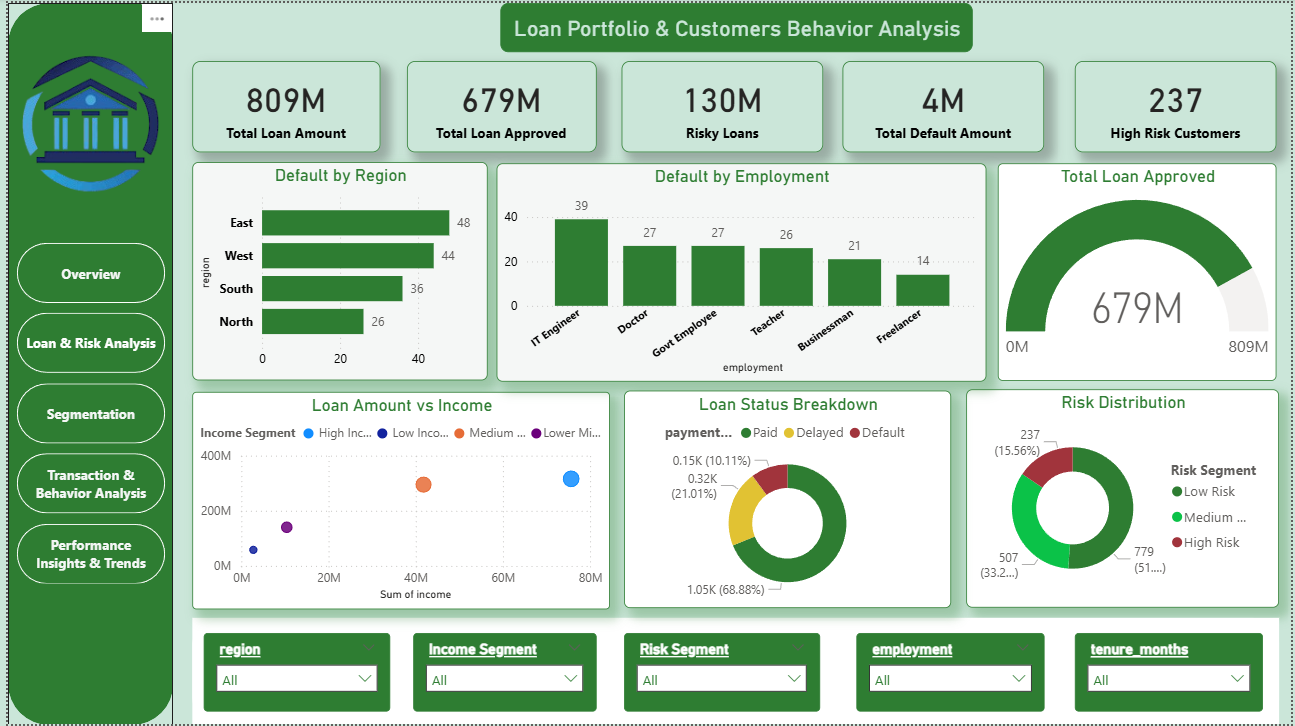

Layout of this report page (visuals, bound fields, positions):
{"tool":"powerbi","page":{"name":"Loan & Risk  Analysis","canvas":[1280,720],"ordinal":1},"visuals":[{"type":"shape","box":[0,0,165,720.5],"z":0},{"type":"shape","title":"Loan Portfolio & Customers Behavior Analysis","box":[491.3,0,471.1,49.1],"z":1000},{"type":"pageNavigator","box":[8.8,239.3,148.6,341.4],"z":2000},{"type":"image","box":[0,11.3,165,219.2],"z":3000},{"type":"card","fields":{"Values":["Sum(banking_loan_db cust_trans_loan.loan_amount)"]},"box":[183.9,57.9,187.7,90.7],"z":4000},{"type":"card","fields":{"Values":["banking_loan_db cust_trans_loan.Total Loan Approved"]},"box":[398.1,57.9,189,90.7],"z":5000},{"type":"card","fields":{"Values":["banking_loan_db cust_trans_loan.Risky Loans"]},"box":[612.2,57.9,201.5,90.7],"z":6000},{"type":"card","fields":{"Values":["banking_loan_db cust_trans_loan.Total Default Amount"]},"box":[832.6,57.9,201.5,90.7],"z":7000},{"type":"barChart","title":"Default by Region","fields":{"Category":["banking_loan_db cust_trans_loan.region"],"Y":["banking_loan_db cust_trans_loan.Default Count"]},"box":[183.9,158.7,294.8,217.9],"z":8000},{"type":"donutChart","title":" Risk Distribution","fields":{"Category":["banking_loan_db cust_trans_loan.Risk Segment"],"Y":["CountNonNull(banking_loan_db cust_trans_loan.customer_id)"]},"box":[956.1,385.5,312.4,217.9],"z":9000},{"type":"shape","box":[183.9,612.9,1084.6,107.1],"z":10000},{"type":"slicer","fields":{"Values":["banking_loan_db cust_trans_loan.region"]},"box":[195.2,628.6,186.4,78.1],"z":11000},{"type":"slicer","fields":{"Values":["banking_loan_db cust_trans_loan.Income Segment"]},"box":[404.4,628.6,182.7,78.1],"z":12000},{"type":"slicer","fields":{"Values":["banking_loan_db cust_trans_loan.Risk Segment"]},"box":[614.7,628.6,195.2,78.1],"z":13000},{"type":"slicer","fields":{"Values":["banking_loan_db cust_trans_loan.employment"]},"box":[846.5,628.6,187.7,78.1],"z":14000},{"type":"slicer","fields":{"Values":["banking_loan_db cust_trans_loan.tenure_months"]},"box":[1064.4,628.6,187.7,78.1],"z":15000},{"type":"card","fields":{"Values":["banking_loan_db cust_trans_loan.High Risk Customers"]},"box":[1064.4,57.9,201.5,90.7],"z":16000},{"type":"scatterChart","title":"Loan Amount vs Income","fields":{"Series":["banking_loan_db cust_trans_loan.Income Segment"],"Y":["Sum(banking_loan_db cust_trans_loan.loan_amount)"],"Size":["CountNonNull(banking_loan_db cust_trans_loan.Income Segment)"],"X":["Sum(banking_loan_db cust_trans_loan.income)"]},"box":[183.9,388,417,216.7],"z":17000},{"type":"columnChart","title":"Default by Employment","fields":{"Category":["banking_loan_db cust_trans_loan.employment"],"Y":["banking_loan_db cust_trans_loan.Default Count"]},"box":[487.5,160,488.8,217.9],"z":18000},{"type":"donutChart","title":"Loan Status Breakdown","fields":{"Category":["banking_loan_db cust_trans_loan.payment_status"],"Y":["CountNonNull(banking_loan_db cust_trans_loan.loan_id)"]},"box":[614.7,386.7,326.3,216.7],"z":19000},{"type":"gauge","title":"Total Loan Approved ","fields":{"Y":["banking_loan_db cust_trans_loan.Total Loan Approved"],"MaxValue":["Sum(banking_loan_db cust_trans_loan.loan_amount)"]},"box":[987.6,160,278.4,216.7],"z":20000}]}

Visuals, with their boxes on the page's 1280x720 design canvas (x1, y1, x2, y2). These are canvas units, not pixel positions in the 1295x726 screenshot, which may show the page scaled, cropped or inside an application window:
shape: [left=0, top=0, right=165, bottom=720]
"Loan Portfolio & Customers Behavior Analysis" shape: [left=491, top=0, right=962, bottom=49]
pageNavigator: [left=9, top=239, right=157, bottom=581]
image: [left=0, top=11, right=165, bottom=230]
card - Sum(banking_loan_db cust_trans_loan.loan_amount): [left=184, top=58, right=372, bottom=149]
card - banking_loan_db cust_trans_loan.Total Loan Approved: [left=398, top=58, right=587, bottom=149]
card - banking_loan_db cust_trans_loan.Risky Loans: [left=612, top=58, right=814, bottom=149]
card - banking_loan_db cust_trans_loan.Total Default Amount: [left=833, top=58, right=1034, bottom=149]
"Default by Region" barChart: [left=184, top=159, right=479, bottom=377]
" Risk Distribution" donutChart: [left=956, top=386, right=1268, bottom=603]
shape: [left=184, top=613, right=1268, bottom=720]
slicer - banking_loan_db cust_trans_loan.region: [left=195, top=629, right=382, bottom=707]
slicer - banking_loan_db cust_trans_loan.Income Segment: [left=404, top=629, right=587, bottom=707]
slicer - banking_loan_db cust_trans_loan.Risk Segment: [left=615, top=629, right=810, bottom=707]
slicer - banking_loan_db cust_trans_loan.employment: [left=846, top=629, right=1034, bottom=707]
slicer - banking_loan_db cust_trans_loan.tenure_months: [left=1064, top=629, right=1252, bottom=707]
card - banking_loan_db cust_trans_loan.High Risk Customers: [left=1064, top=58, right=1266, bottom=149]
"Loan Amount vs Income" scatterChart: [left=184, top=388, right=601, bottom=605]
"Default by Employment" columnChart: [left=488, top=160, right=976, bottom=378]
"Loan Status Breakdown" donutChart: [left=615, top=387, right=941, bottom=603]
"Total Loan Approved " gauge: [left=988, top=160, right=1266, bottom=377]
